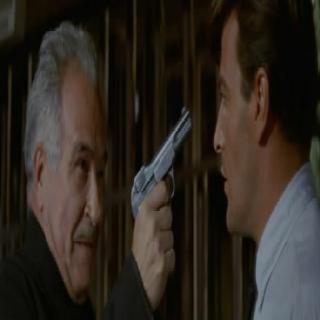gun: (130, 103, 193, 291)
